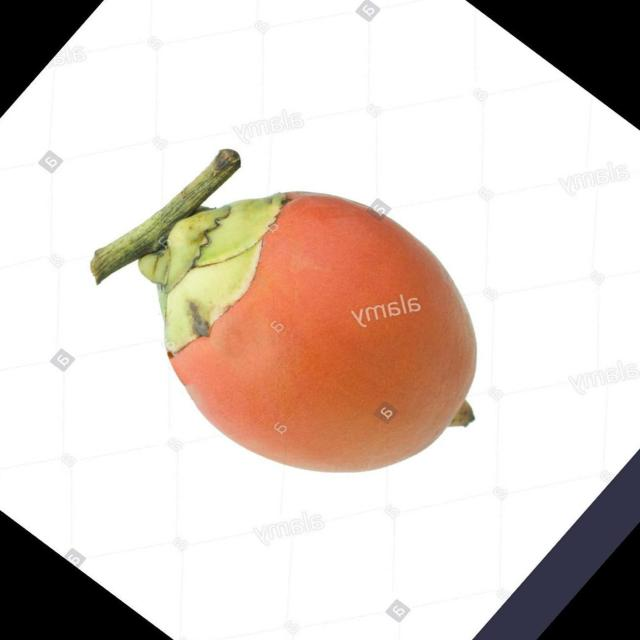good: (94, 151, 479, 476)
